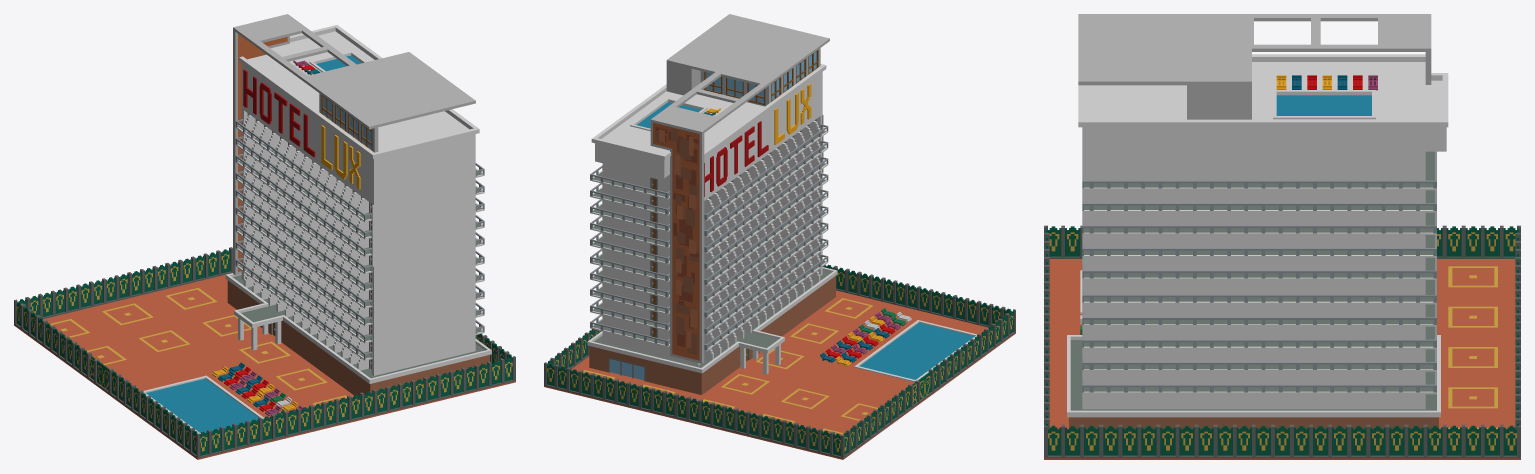
The model's file is Hotel.obj.
3 views of the same model, side by side, from view 1: azimuth 30°, elevation 25°; view 2: azimuth 150°, elevation 25°; view 3: azimuth 270°, elevation 25° (orthographic). The views are drawn at different scales.
Bounding box in the file's own units: 25 × 20.9 × 25.
1 material, 1 textured.
